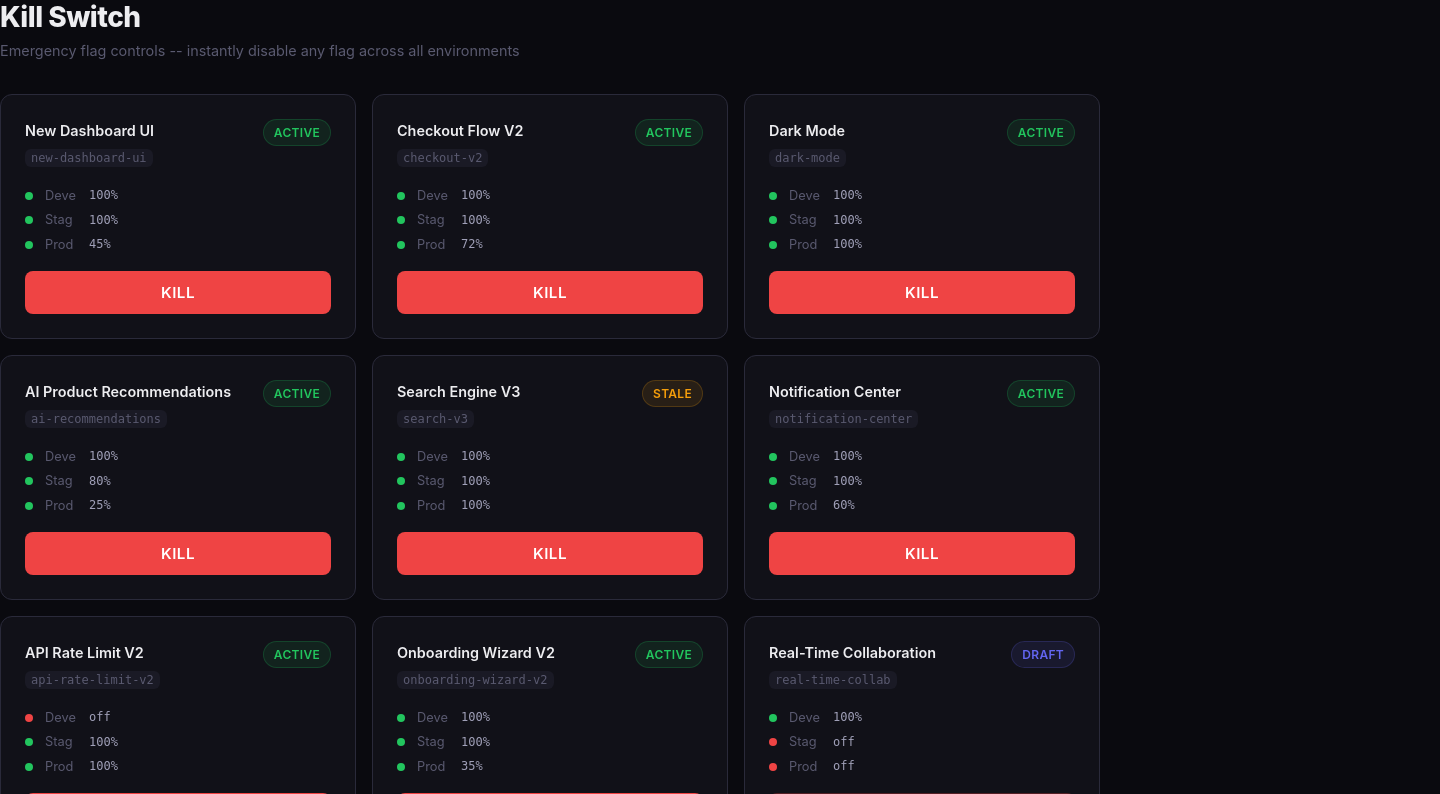
Test: KillSwitchPage › can cancel the kill confirmation
Click the button "Kill" below "45%". click: [178, 293]
box: [25,271,331,314]
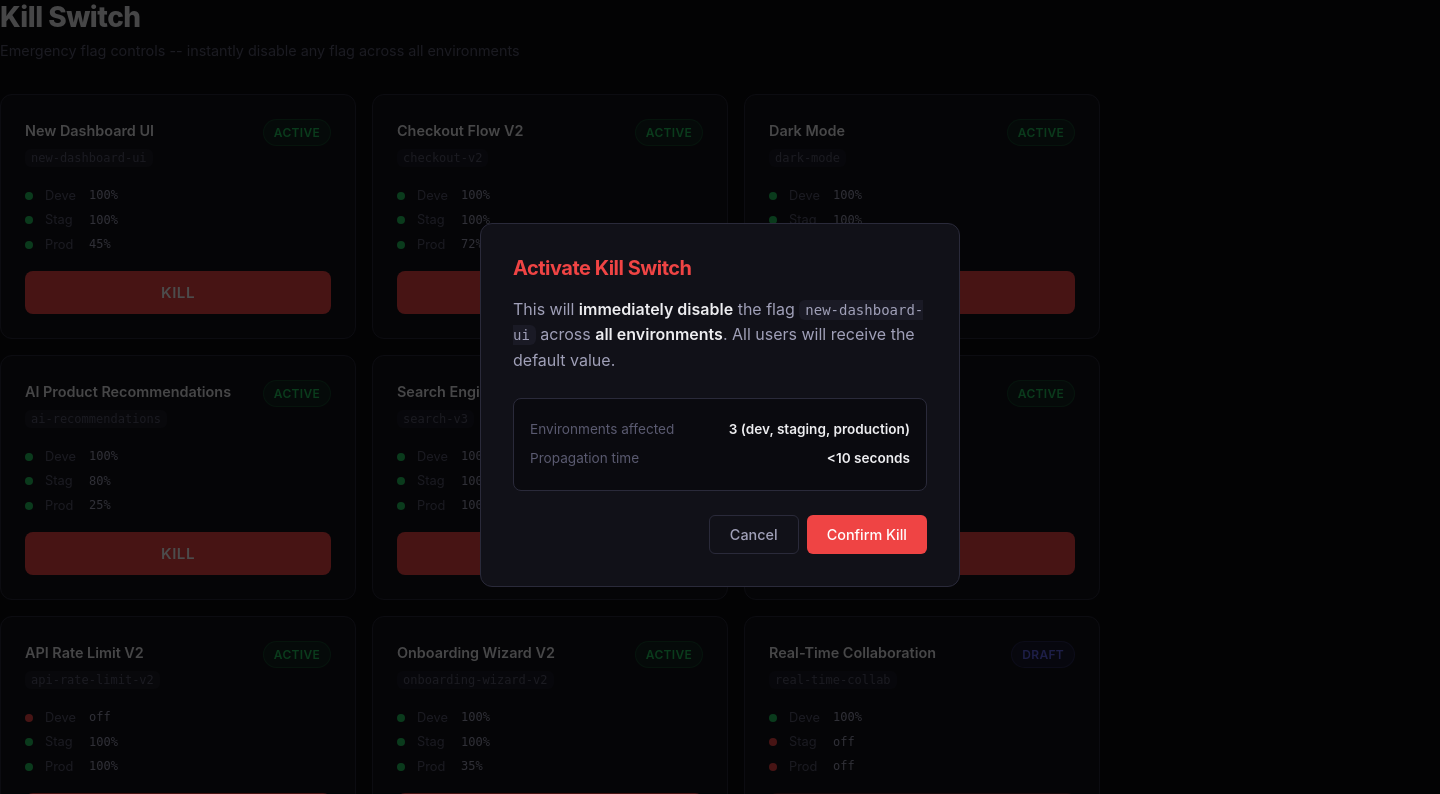
Check: the heading "Activate Kill Switch" is shown, box [513,256,692,280]
Click the button "Cancel". click: [754, 535]
box: [709,515,799,554]
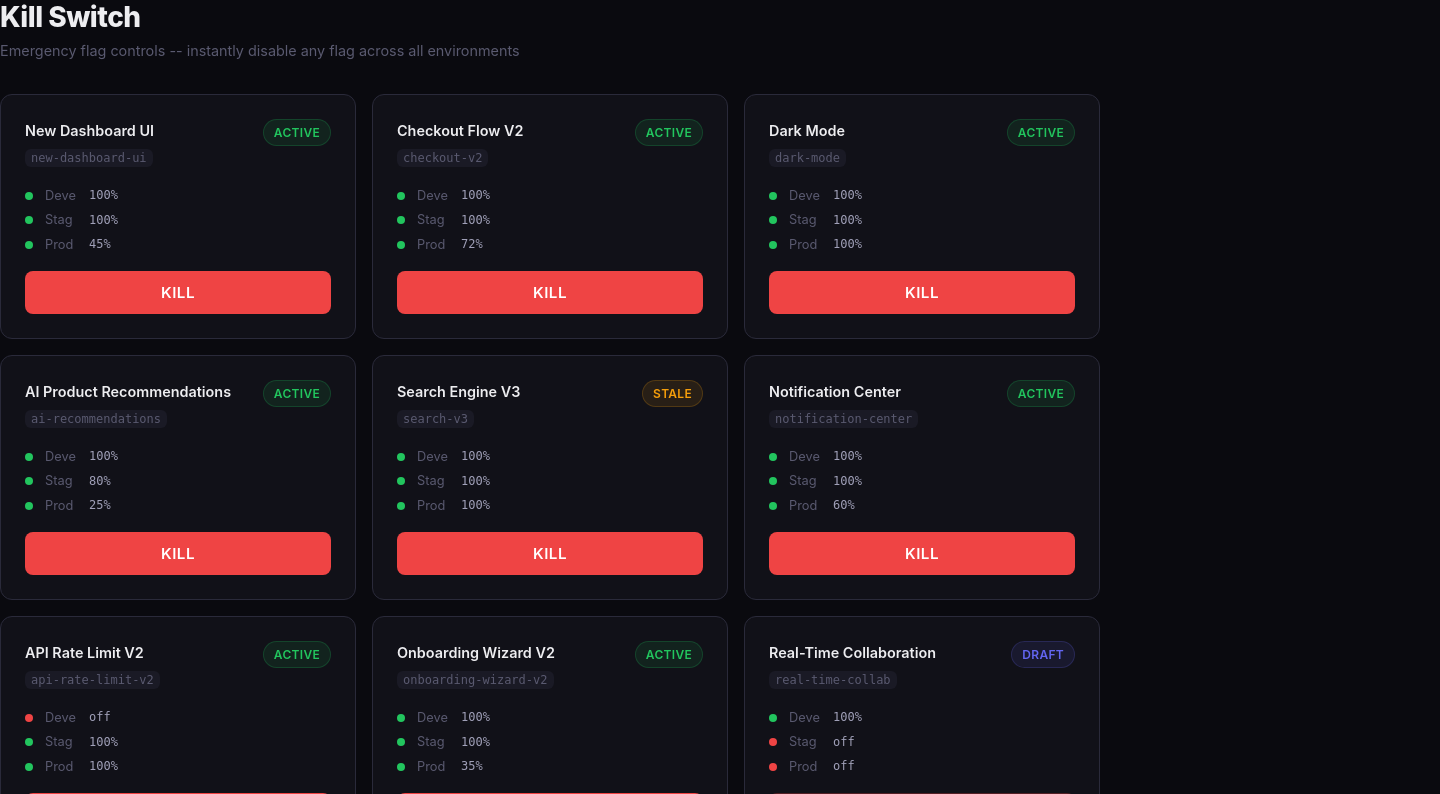
Check: the heading "Activate Kill Switch" is gone
